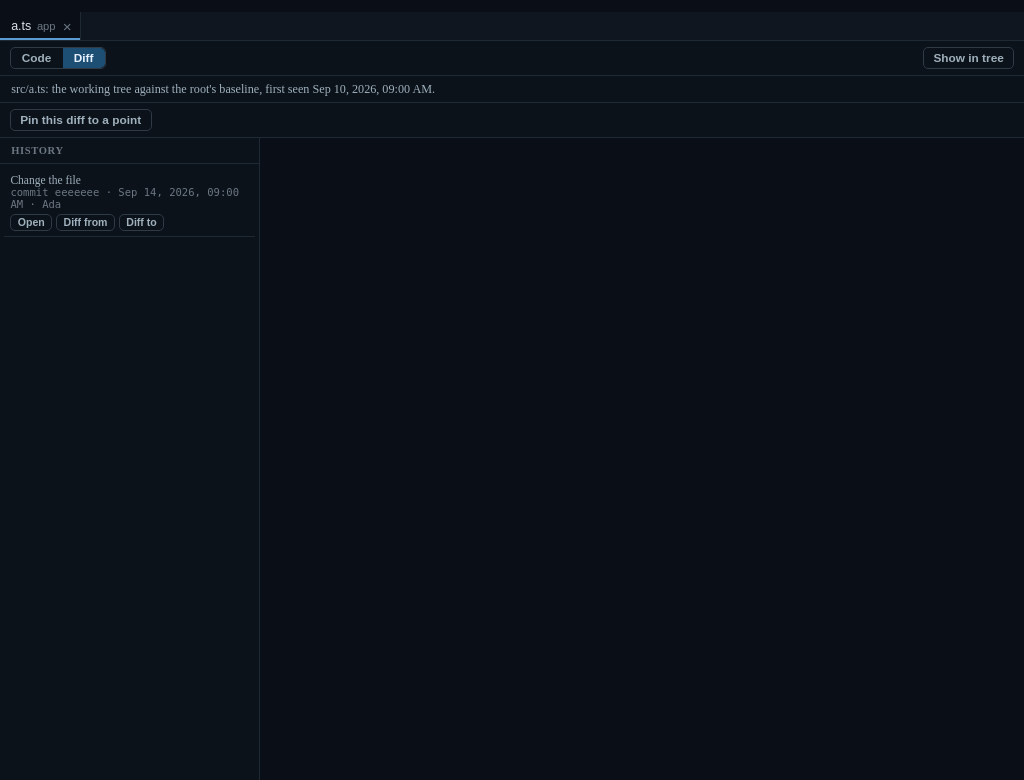
Test: the history opens the file at a commit and diffs two points
Click the button with aria-label "Open src/a.ts at commit eeeeeee" at (31, 222), box [10,214,52,231]
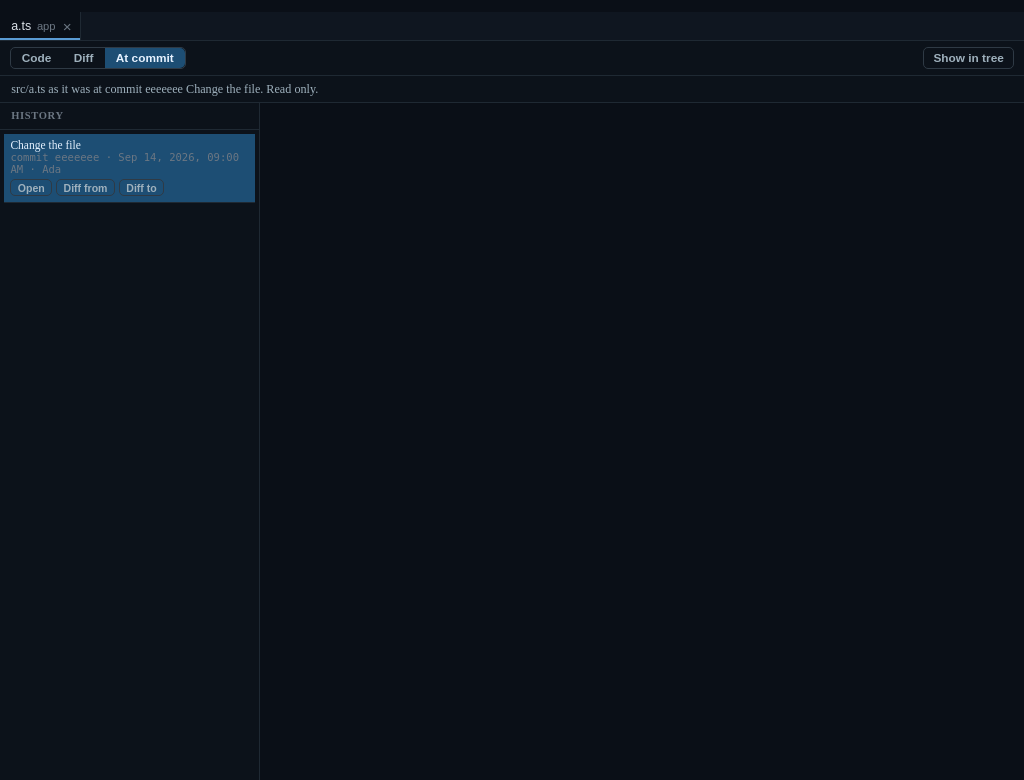
Check: the text with test id "files-diff-against" reads "src/a.ts as it was at commit eeeeeee Change the file. Read only.", box [11,82,318,96]
Note: Diff from the history's commit to the working tree, then between two points.
Click the button with aria-label "Diff from commit eeeeeee" at (85, 188), box [56,179,115,196]
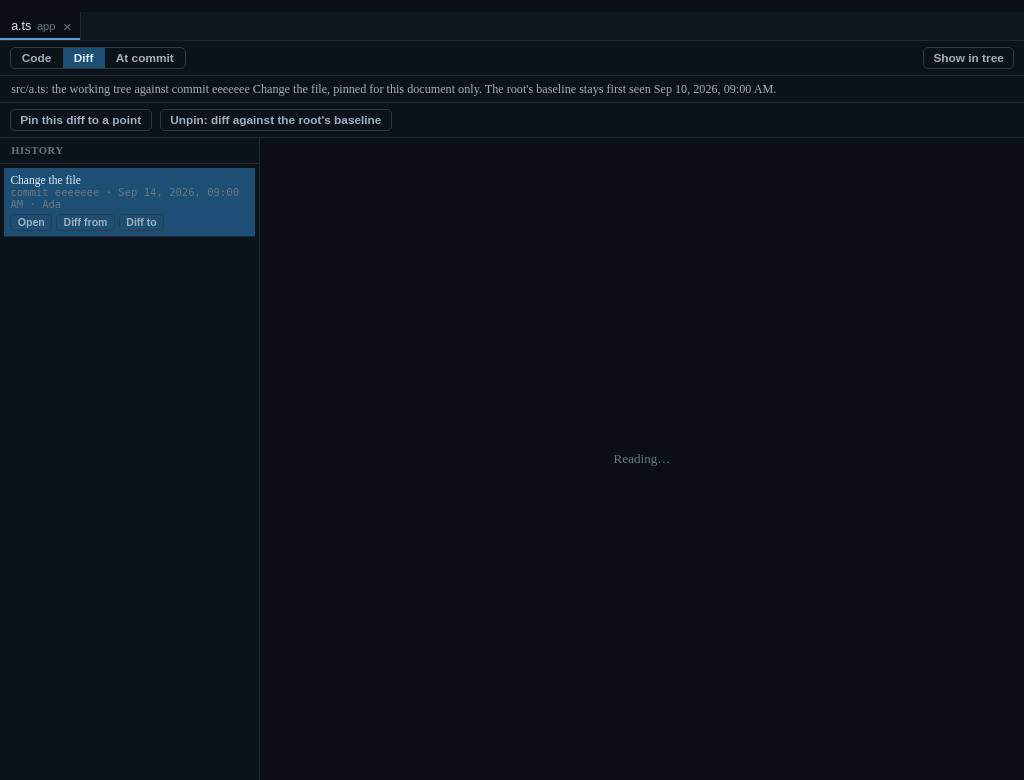
Click the button with aria-label "Diff to commit eeeeeee" at (142, 222), box [119,214,164,231]
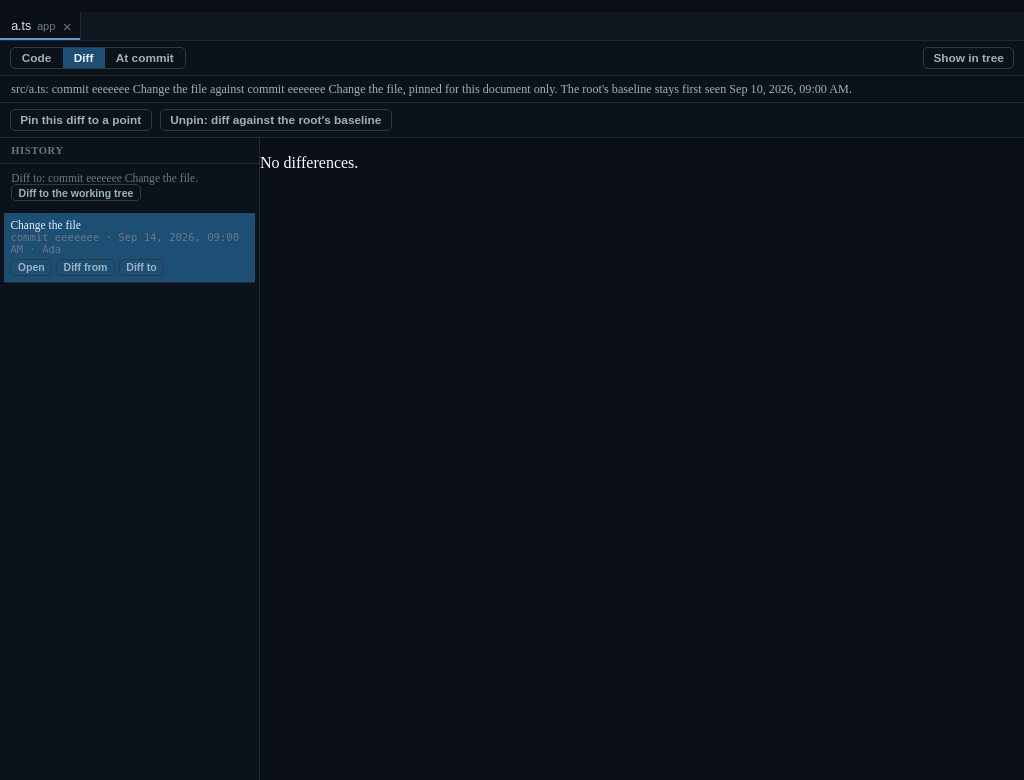
Check: the text with test id "files-diff-against" shows "src/a.ts: commit eeeeeee Change the file against commit eeeeeee Change the file, pinned for this document only.", box [11,82,852,96]
Check: the text with test id "cm-notice" reads "No differences.", box [260,154,358,171]
